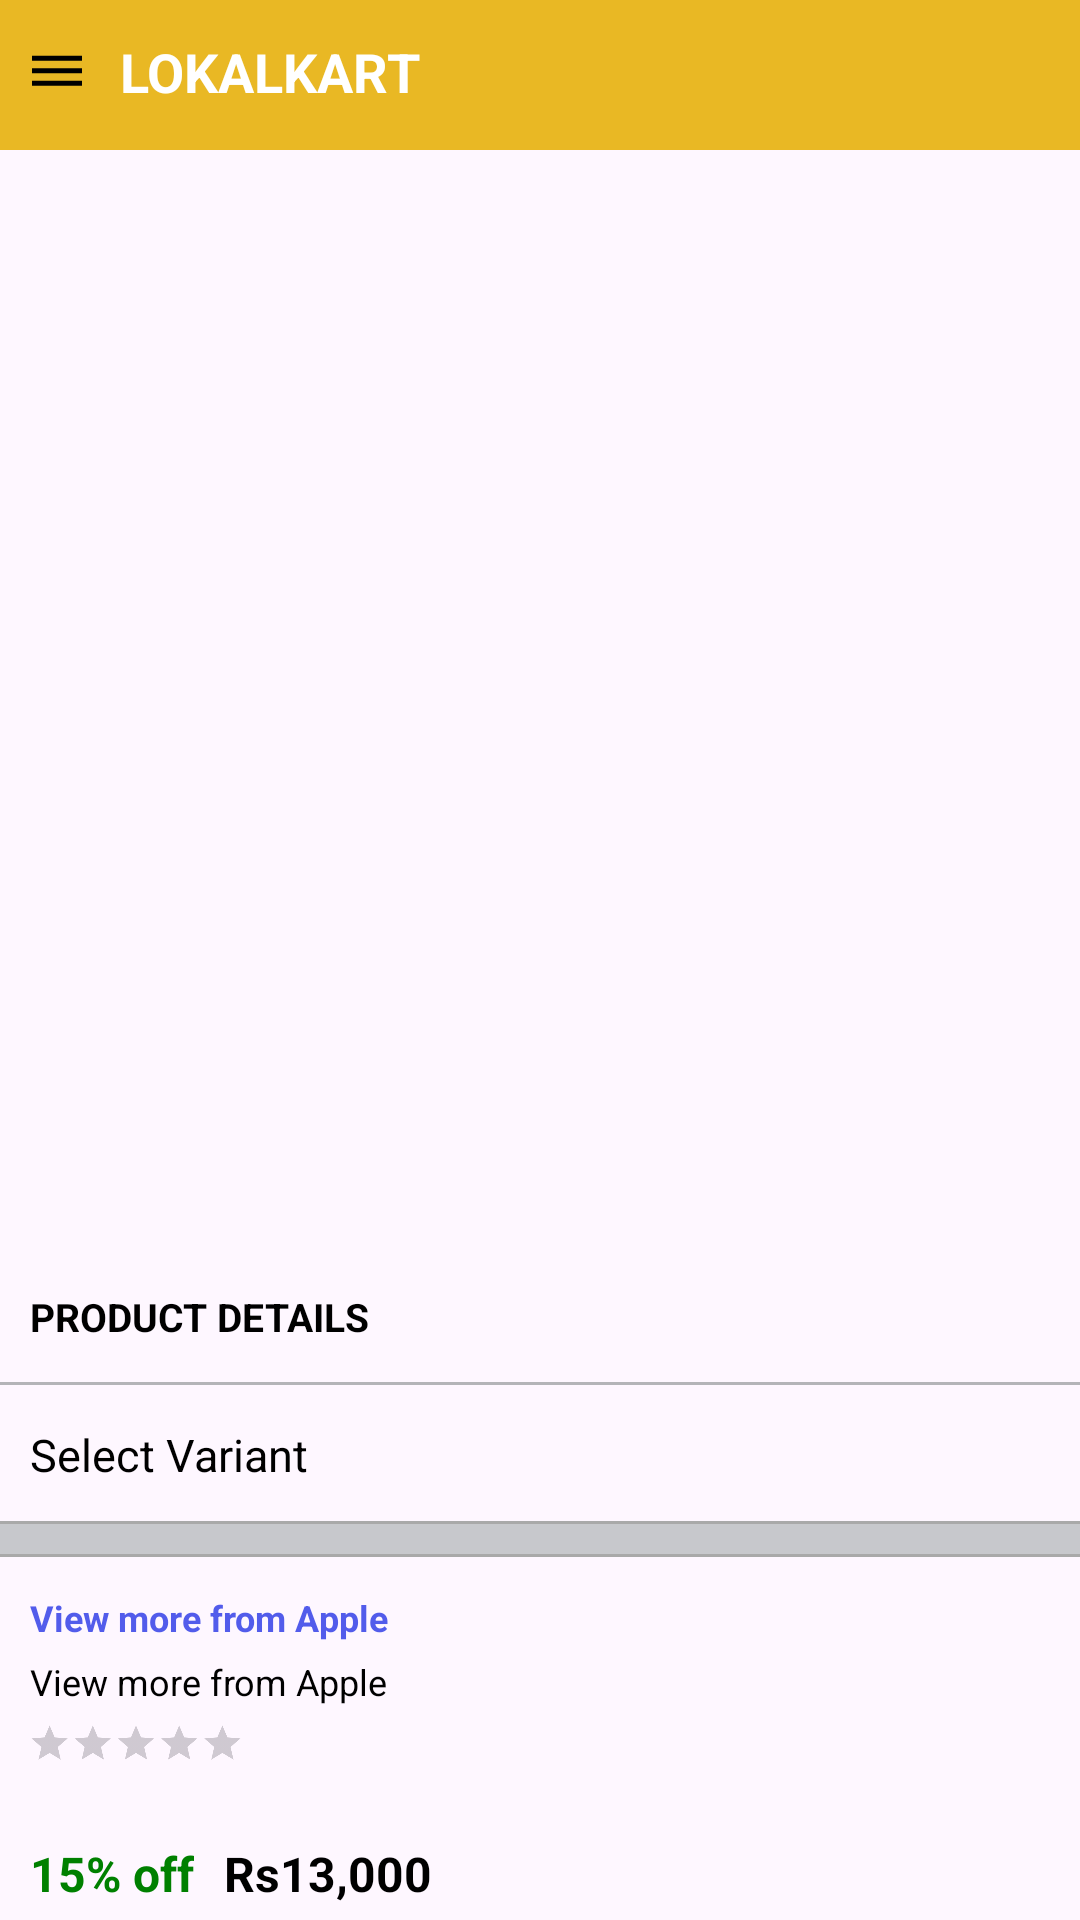

Screen size 1080×1920. Icon name, then its center in pixels as (x,y):
dehaze: (57,70)
